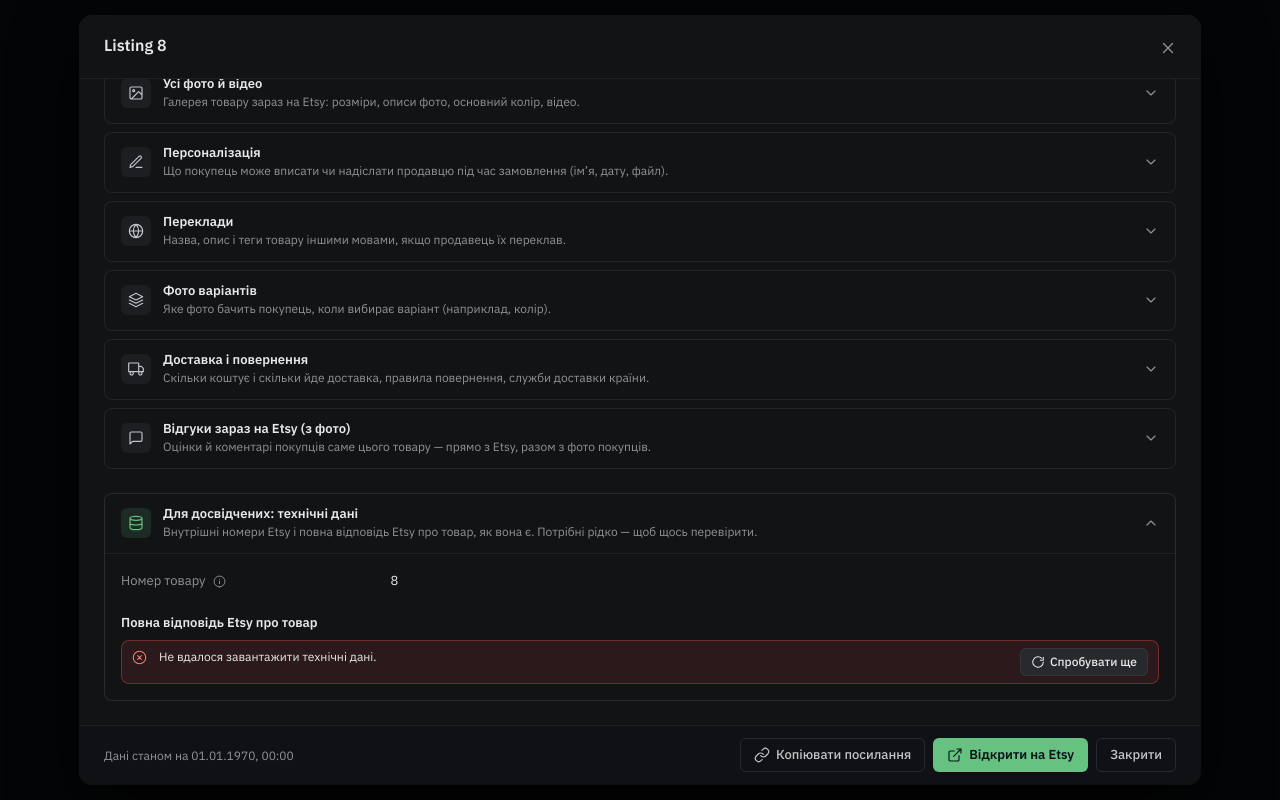
Test: ListingModal: popularity, details, raw JSON › technical data failing to load says so and retries (never stuck on "Завантаження…")
(page scrolled)
expect the element with test id "raw-json-failed" shows "Не вдалося завантажити технічні дані.": met, box x1=159 y1=649 x2=377 y2=664
Step 1. Click the button "Спробувати ще" → (1084,662), box x1=1020 y1=648 x2=1148 y2=676
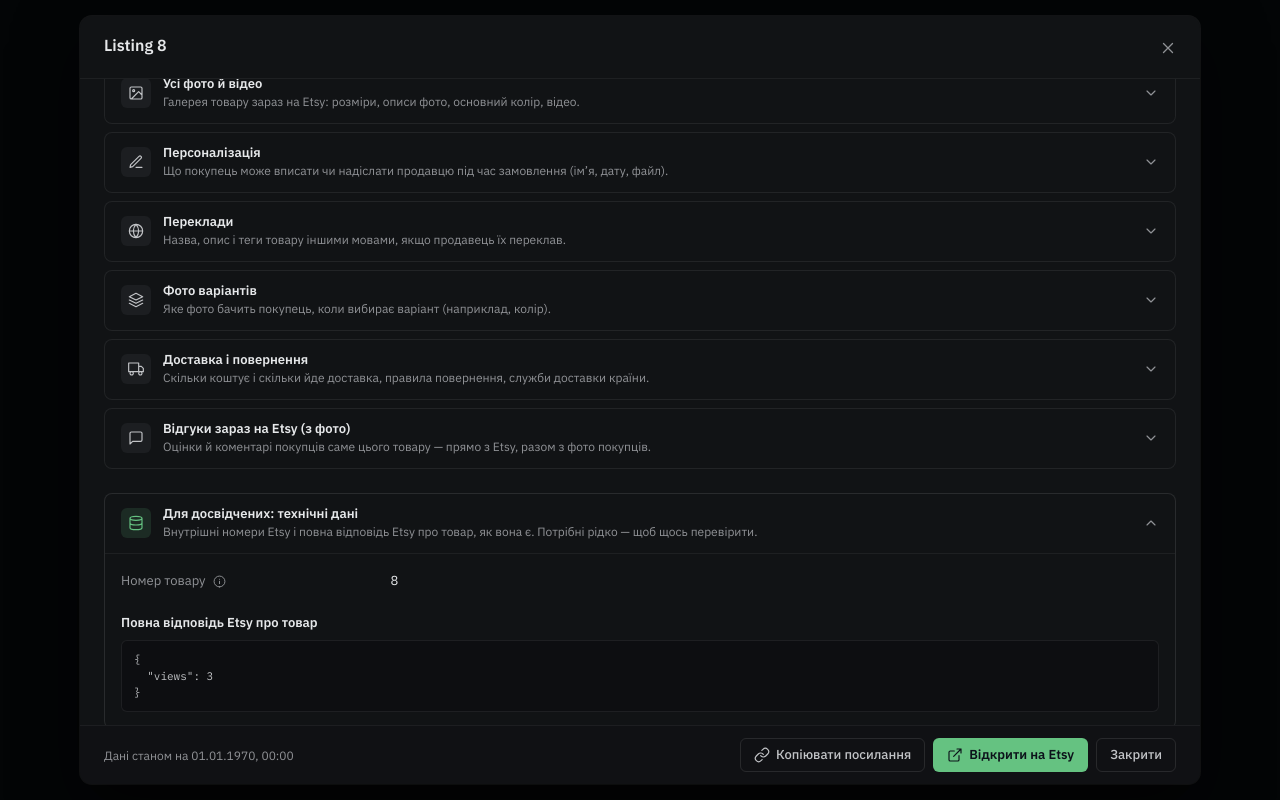
expect the text with test id "raw-json" shows "\"views\": 3": met, box x1=134 y1=652 x2=213 y2=699
expect the element with test id "raw-json-failed" is gone: met
